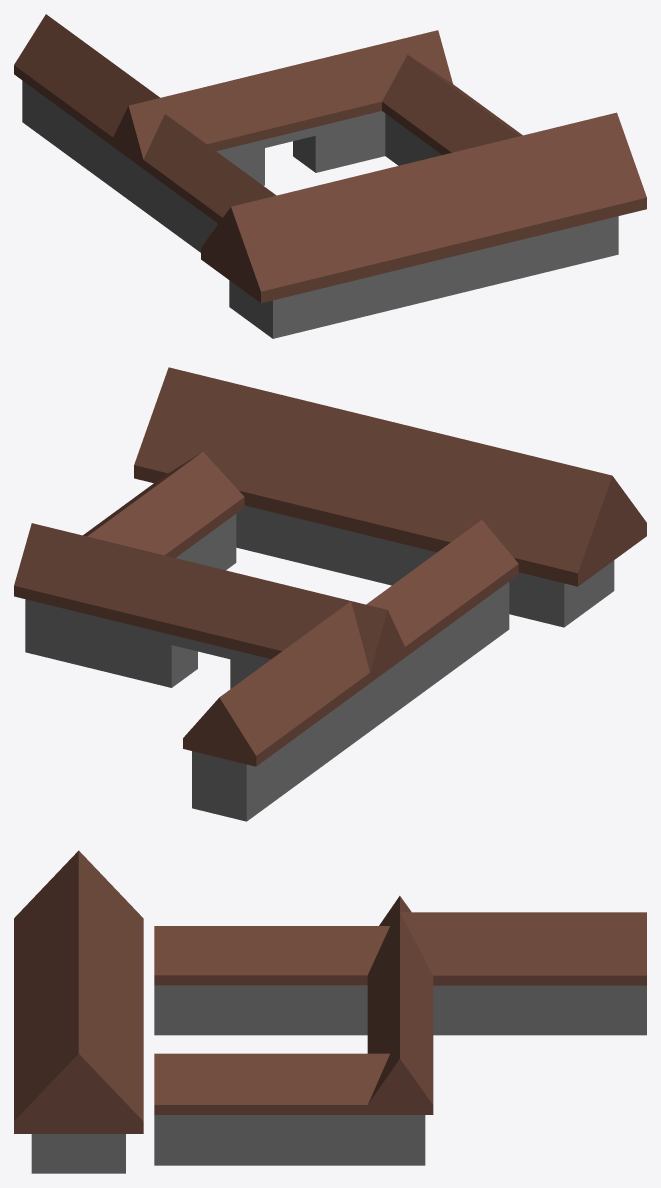
Rendered from fourShape.fbx.
The picture shows the model from 3 angles, top to bottom: view 1: azimuth 30°, elevation 25°; view 2: azimuth 150°, elevation 25°; view 3: azimuth 270°, elevation 25°; orthographic projection. The views are drawn at different scales.
Parts seen in each view (by area): view 1: MainHouse, Houses; view 2: Houses, MainHouse; view 3: Houses, MainHouse.
Boxes of the visible parts, left/top/right/bottom form: MainHouse: left=201, top=112, right=646, bottom=338; Houses: left=14, top=14, right=522, bottom=252; Houses: left=14, top=452, right=518, bottom=821; MainHouse: left=134, top=367, right=646, bottom=627; Houses: left=154, top=896, right=646, bottom=1165; MainHouse: left=14, top=850, right=143, bottom=1173.
Size of the model in its own units: 1850 by 557 by 2436.
